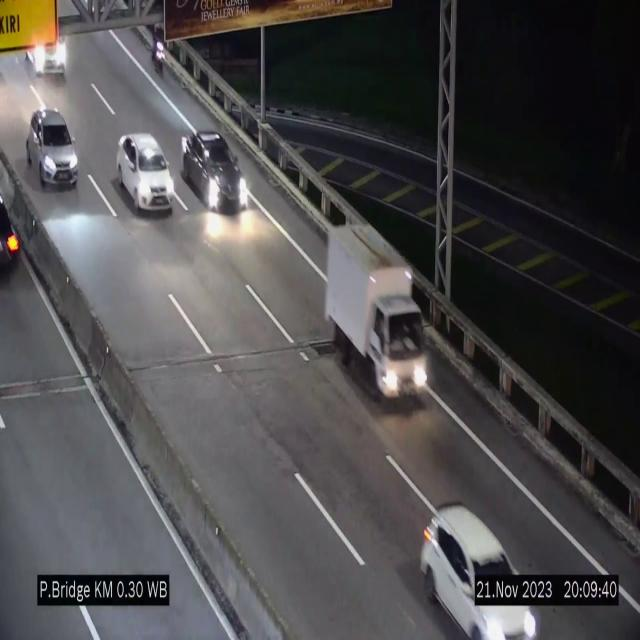Car: (421, 506, 539, 639), (185, 121, 247, 222), (117, 133, 174, 214), (26, 110, 78, 188), (23, 28, 71, 84)
Motorcycle: (148, 16, 168, 79)
Truck: (325, 225, 427, 403)
